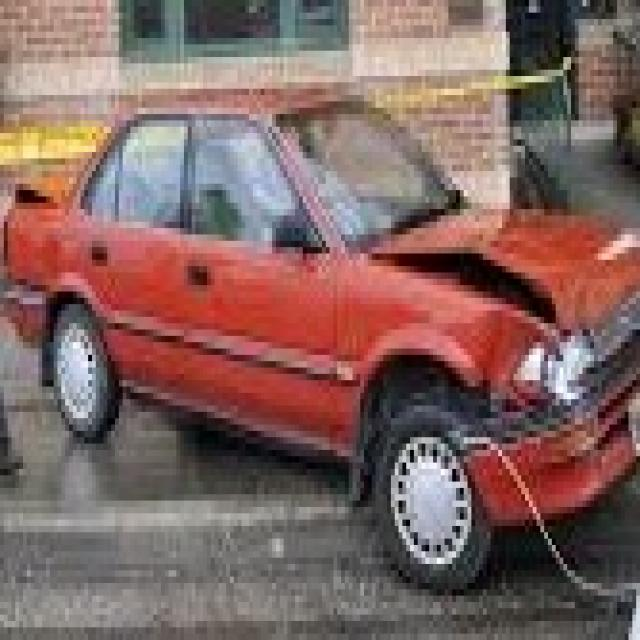moderate: (380, 238, 640, 550)
